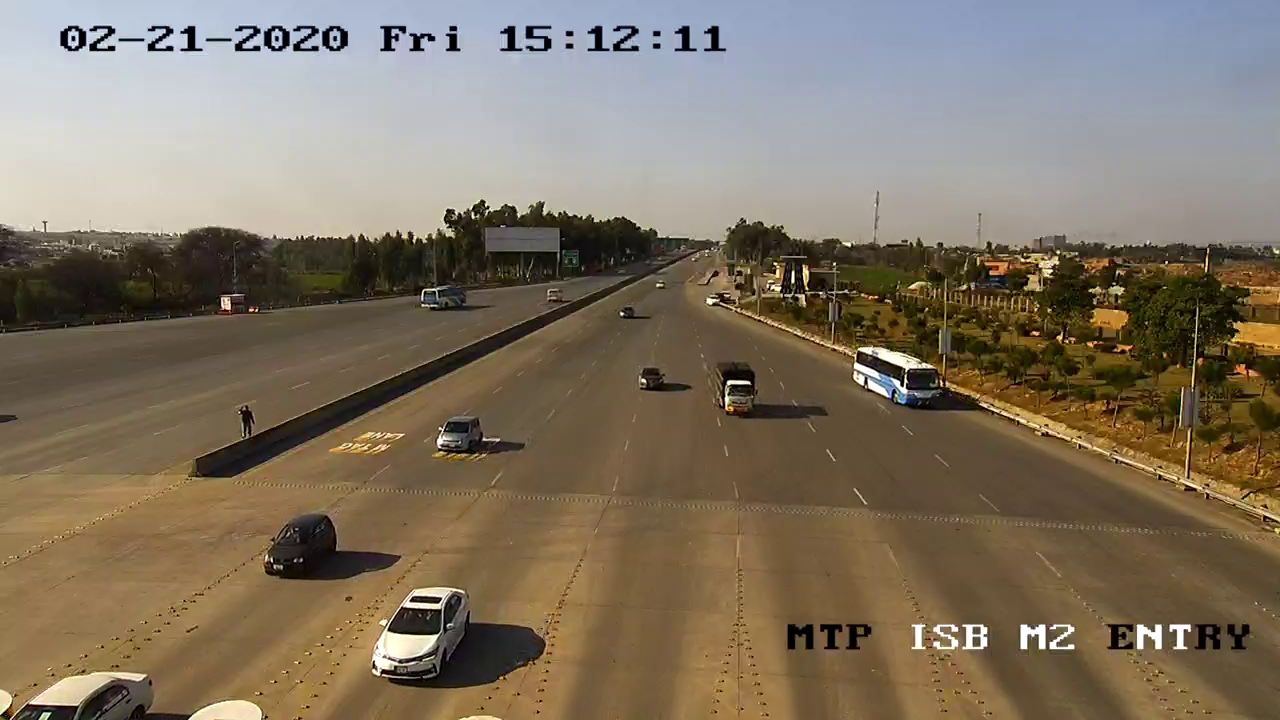f1: (363, 580, 479, 686), (255, 506, 343, 588), (432, 409, 488, 460)
f4: (851, 339, 949, 412)
f5: (706, 358, 766, 418)
